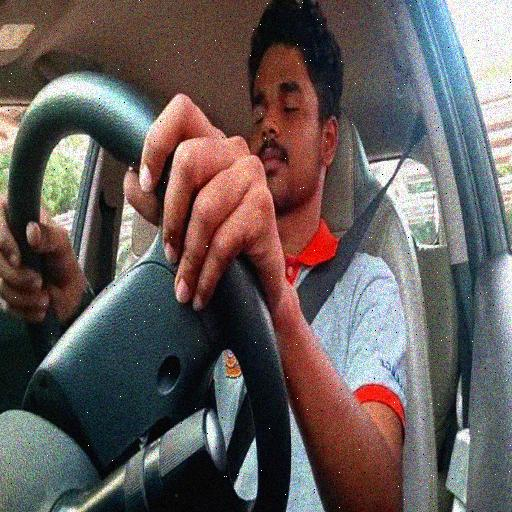Closed Eye: (248, 0, 339, 253)
